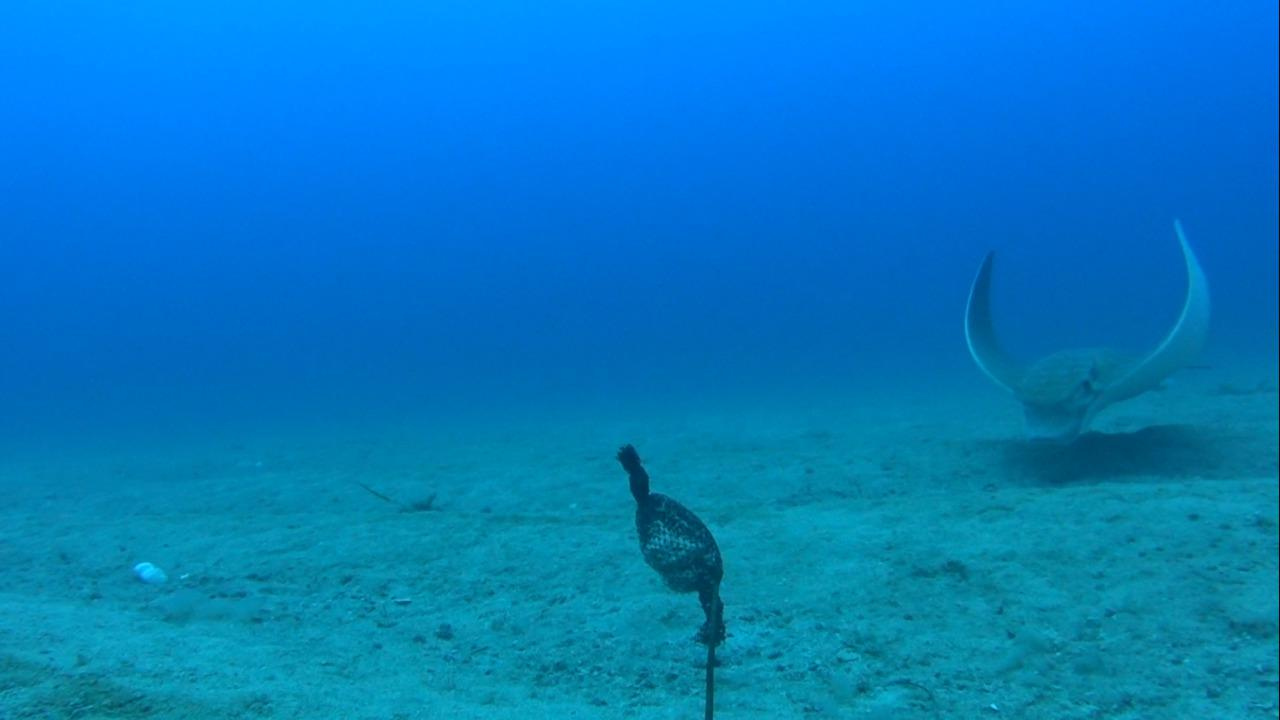myliobatis: (952, 211, 1225, 453)
